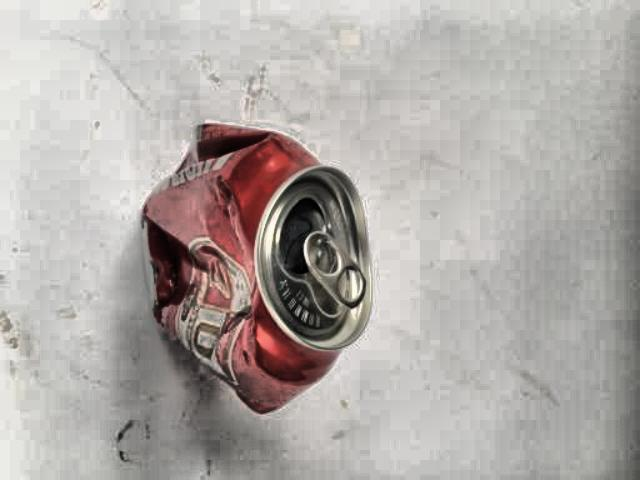Bottles: (133, 112, 388, 449)
